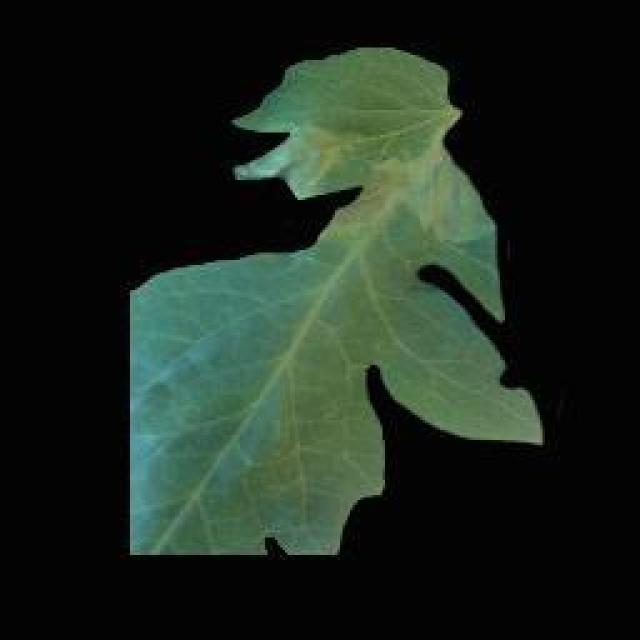Tomato Late Blight: (253, 155, 522, 305)
